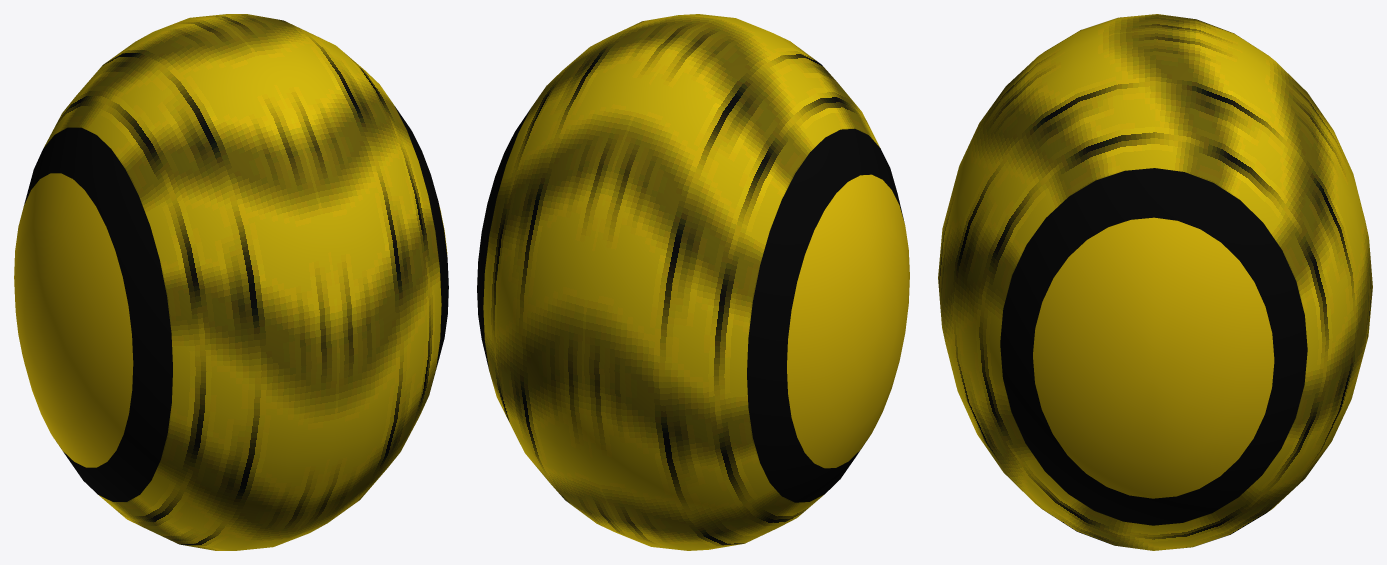
The model's file is CannonBolt_Ball-PlayerModel.fbx.
3 views of the same model, side by side, from view 1: azimuth 30°, elevation 25°; view 2: azimuth 150°, elevation 25°; view 3: azimuth 270°, elevation 25° (orthographic).
Parts seen in each view (by area): view 1: Sphere; view 2: Sphere; view 3: Sphere.
Boxes of the visible parts, x1=… form: Sphere: x1=14, y1=14, x2=448, y2=550; Sphere: x1=477, y1=14, x2=909, y2=550; Sphere: x1=938, y1=14, x2=1372, y2=550.
Bounding box in the file's own units: 309 × 398 × 310.
